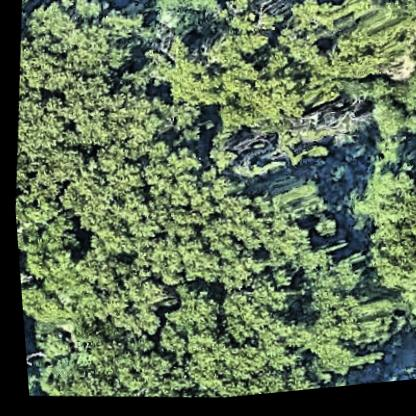tree-top: (165, 276, 295, 405), (267, 0, 416, 104), (284, 253, 397, 381), (80, 217, 184, 340), (340, 164, 416, 320), (169, 201, 283, 303), (78, 315, 198, 409), (13, 0, 128, 97), (50, 69, 161, 159), (53, 150, 144, 249), (242, 185, 335, 280), (205, 55, 297, 141), (14, 233, 87, 329), (140, 34, 228, 111), (130, 135, 207, 222), (9, 90, 75, 166), (213, 0, 290, 64), (359, 99, 416, 162), (148, 0, 226, 41), (393, 53, 416, 133), (307, 377, 393, 395), (21, 365, 34, 396)
